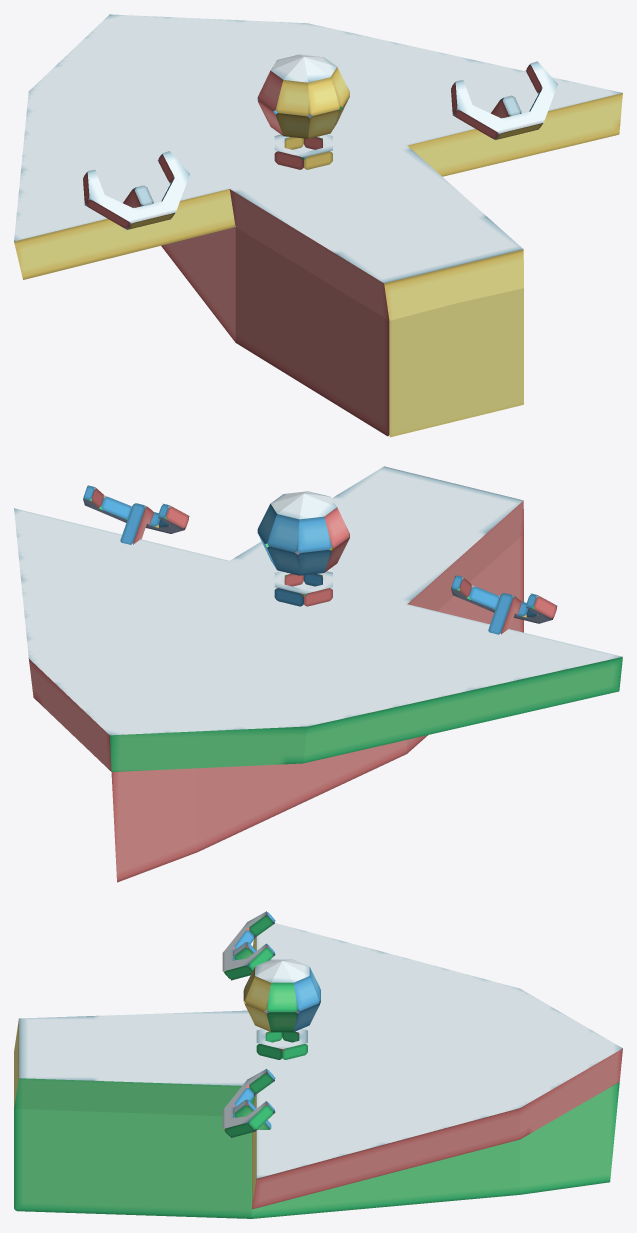
File: cockpit_console.obj
3 views of the same model, one above another, from view 1: azimuth 30°, elevation 25°; view 2: azimuth 150°, elevation 25°; view 3: azimuth 270°, elevation 25° (orthographic). The views are drawn at different scales.
Parts seen in each view (by area): view 1: console, tube, map, holder, cuboid; view 2: console, map, tube, holder, cuboid; view 3: console, map, tube, holder, cuboid.
Boxes of the visible parts, <box> form: console: <box>14,14,622,437</box>; tube: <box>83,61,557,229</box>; map: <box>257,54,349,138</box>; holder: <box>274,134,332,169</box>; cuboid: <box>123,95,521,207</box>; console: <box>14,466,622,882</box>; map: <box>257,491,349,575</box>; tube: <box>83,485,557,623</box>; holder: <box>274,571,332,606</box>; cuboid: <box>120,503,521,634</box>; console: <box>14,923,622,1218</box>; map: <box>243,959,320,1032</box>; tube: <box>222,911,275,1137</box>; holder: <box>256,1029,307,1059</box>; cuboid: <box>233,942,271,1129</box>.
Size of the model in its own units: 3 by 1.19 by 2.96.
1 material, 1 textured.
